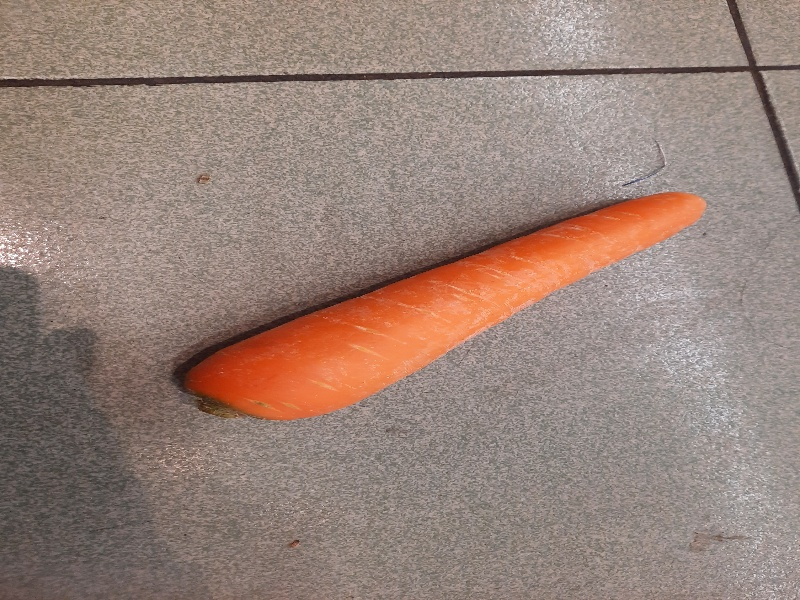vege: (168, 181, 714, 434)
